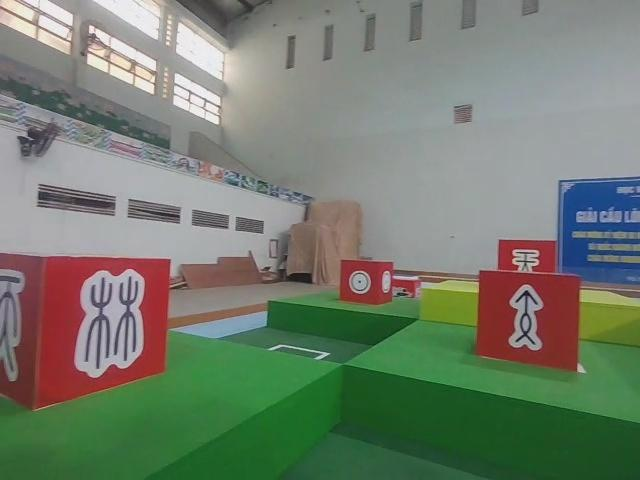R2 Fake: (0, 245, 175, 411)
R2 Real: (475, 267, 583, 374), (339, 255, 396, 307)
